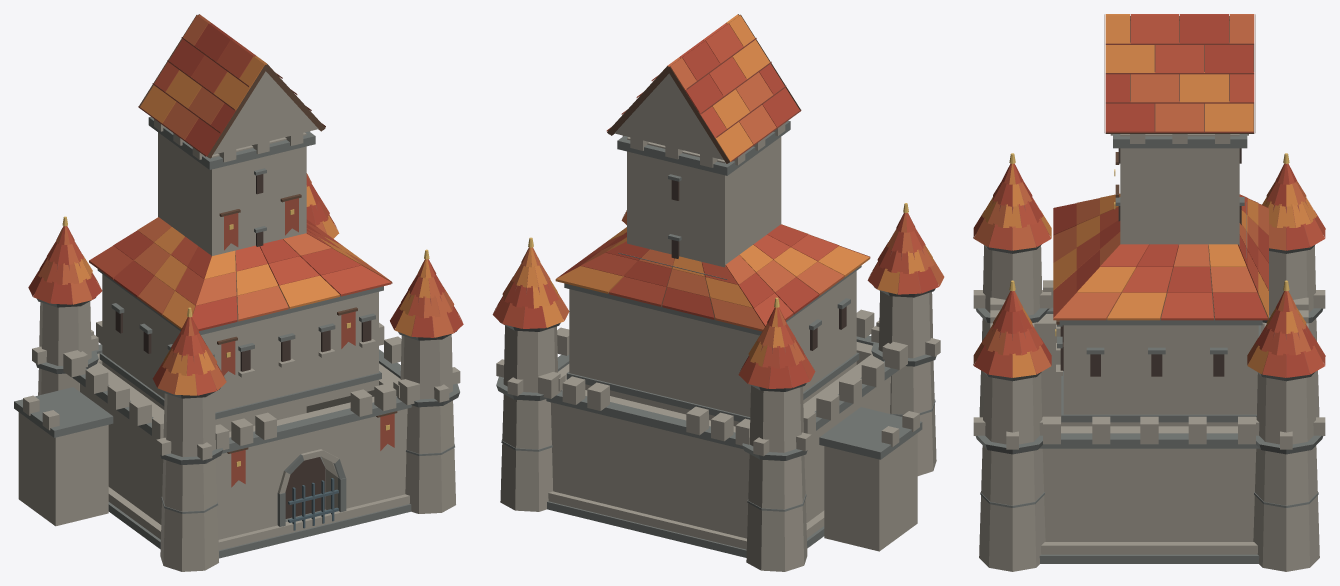
The model's file is ENV_Castle_LOD1.glb.
3 renders of one model, left to right at view 1: azimuth 30°, elevation 25°; view 2: azimuth 150°, elevation 25°; view 3: azimuth 270°, elevation 25°, orthographic. The views are drawn at different scales.
Visible parts, largest first — view 1: ENV_Castle_LOD1_keep_stone, ENV_Castle_LOD1_walls_stone, ENV_Castle_LOD1_keep_roofTiles, ENV_Castle_LOD1_completion_stone, ENV_Castle_LOD1_towers_raised_roofTiles, ENV_Castle_LOD1_towers_raised_stone, ENV_Castle_LOD1_keep_stoneDark, ENV_Castle_LOD1_walls_stoneDark, ENV_Castle_LOD1_foundation_stone, ENV_Castle_LOD1_completion_stoneDark, ENV_Castle_LOD1_keep_roof, ENV_Castle_LOD1_foundation_stoneDark (+5 smaller); view 2: ENV_Castle_LOD1_keep_stone, ENV_Castle_LOD1_walls_stone, ENV_Castle_LOD1_keep_roofTiles, ENV_Castle_LOD1_completion_stone, ENV_Castle_LOD1_towers_raised_roofTiles, ENV_Castle_LOD1_towers_raised_stone, ENV_Castle_LOD1_keep_stoneDark, ENV_Castle_LOD1_walls_stoneDark, ENV_Castle_LOD1_completion_stoneDark, ENV_Castle_LOD1_foundation_stone, ENV_Castle_LOD1_foundation_stoneDark, ENV_Castle_LOD1_keep_woodDark (+2 smaller); view 3: ENV_Castle_LOD1_walls_stone, ENV_Castle_LOD1_keep_roofTiles, ENV_Castle_LOD1_keep_stone, ENV_Castle_LOD1_towers_raised_roofTiles, ENV_Castle_LOD1_towers_raised_stone, ENV_Castle_LOD1_keep_stoneDark, ENV_Castle_LOD1_walls_stoneDark, ENV_Castle_LOD1_completion_stone, ENV_Castle_LOD1_foundation_stone, ENV_Castle_LOD1_foundation_stoneDark, ENV_Castle_LOD1_keep_roof, ENV_Castle_LOD1_keep_woodDark (+3 smaller).
Boxes of the visible parts, x1,y1,x2,y2 form: ENV_Castle_LOD1_keep_stone: (102,71,378,431); ENV_Castle_LOD1_walls_stone: (32,334,460,571); ENV_Castle_LOD1_keep_roofTiles: (89,14,392,330); ENV_Castle_LOD1_completion_stone: (18,321,419,526); ENV_Castle_LOD1_towers_raised_roofTiles: (28,173,463,395); ENV_Castle_LOD1_towers_raised_stone: (39,301,452,457); ENV_Castle_LOD1_keep_stoneDark: (97,117,383,419); ENV_Castle_LOD1_walls_stoneDark: (36,344,459,526); ENV_Castle_LOD1_foundation_stone: (108,487,409,550); ENV_Castle_LOD1_completion_stoneDark: (14,387,113,437); ENV_Castle_LOD1_keep_roof: (138,37,355,375); ENV_Castle_LOD1_foundation_stoneDark: (108,456,411,558); ENV_Castle_LOD1_keep_stone: (569,73,856,426); ENV_Castle_LOD1_walls_stone: (496,326,940,571); ENV_Castle_LOD1_keep_roofTiles: (555,14,870,331); ENV_Castle_LOD1_completion_stone: (538,309,919,551); ENV_Castle_LOD1_towers_raised_roofTiles: (492,210,944,388); ENV_Castle_LOD1_towers_raised_stone: (503,291,932,452); ENV_Castle_LOD1_keep_stoneDark: (564,120,861,421); ENV_Castle_LOD1_walls_stoneDark: (496,335,936,511); ENV_Castle_LOD1_completion_stoneDark: (819,407,922,459); ENV_Castle_LOD1_foundation_stone: (548,491,824,549); ENV_Castle_LOD1_foundation_stoneDark: (547,501,824,557); ENV_Castle_LOD1_keep_woodDark: (607,14,844,319); ENV_Castle_LOD1_walls_stone: (973,290,1325,571); ENV_Castle_LOD1_keep_roofTiles: (1053,14,1268,320); ENV_Castle_LOD1_keep_stone: (1056,134,1258,426); ENV_Castle_LOD1_towers_raised_roofTiles: (973,163,1325,377); ENV_Castle_LOD1_towers_raised_stone: (983,245,1315,444); ENV_Castle_LOD1_keep_stoneDark: (1057,134,1262,422); ENV_Castle_LOD1_walls_stoneDark: (975,307,1323,507); ENV_Castle_LOD1_completion_stone: (990,280,1308,444); ENV_Castle_LOD1_foundation_stone: (1041,542,1257,554); ENV_Castle_LOD1_foundation_stoneDark: (1039,554,1259,563); ENV_Castle_LOD1_keep_roof: (1105,43,1254,132); ENV_Castle_LOD1_keep_woodDark: (1056,14,1268,324).
Size of the model in its own units: 15.11 by 18.16 by 12.09.
